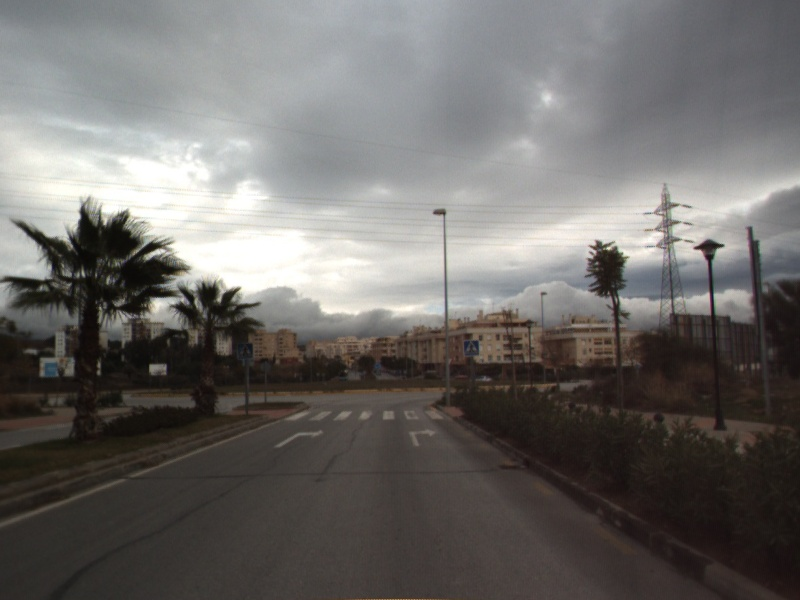RIGHT: (272, 428, 325, 450), (406, 426, 438, 448)
